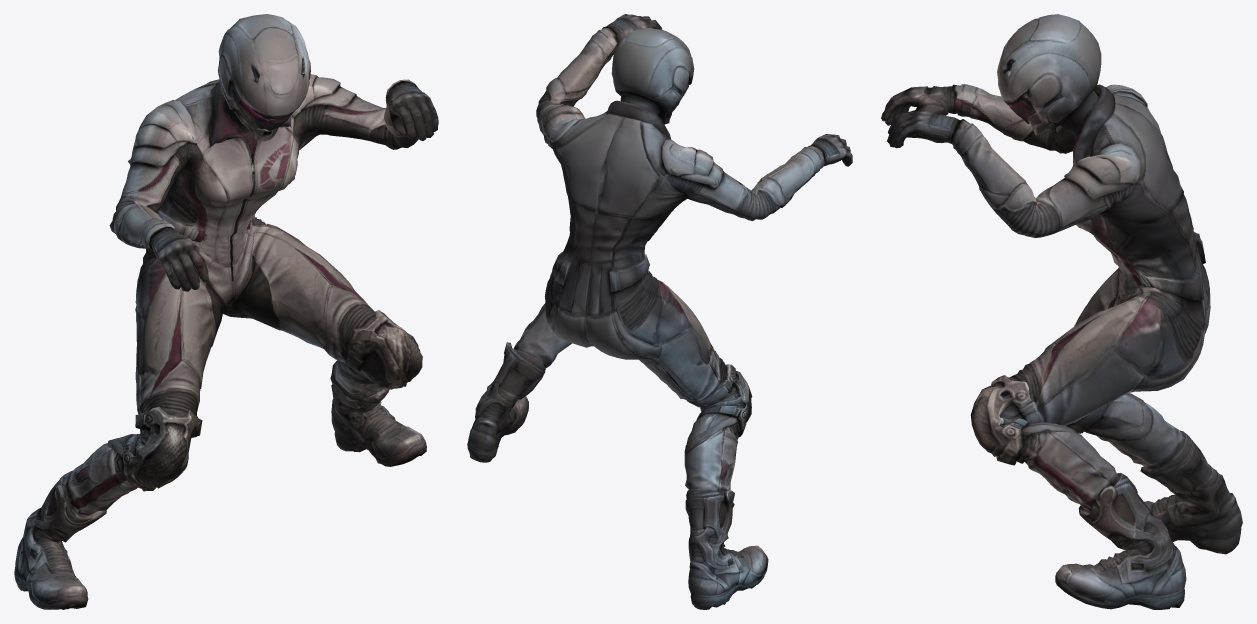
File: vesper-brace.glb
3 renders of one model, left to right at view 1: azimuth 30°, elevation 25°; view 2: azimuth 150°, elevation 25°; view 3: azimuth 270°, elevation 25°, orthographic. The views are drawn at different scales.
Visible parts, largest first — view 1: VesperBrace; view 2: VesperBrace; view 3: VesperBrace.
Part boxes in pixels (<box>): VesperBrace: <box>14,14,438,609</box>; VesperBrace: <box>467,14,852,609</box>; VesperBrace: <box>881,14,1242,609</box>.
Size of the model in its own units: 0.9354 by 1.48 by 0.8037.
Materials: 1 (1 with a texture image).
